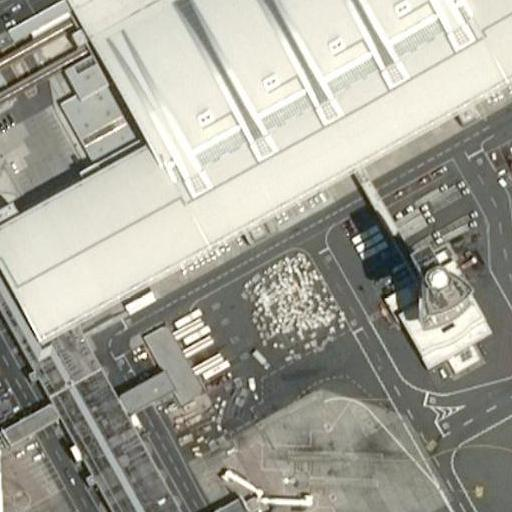Aircraft: (0, 504, 28, 512)
